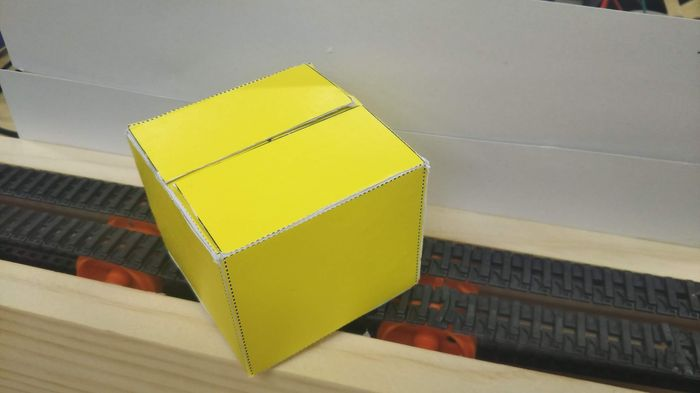box4: (123, 60, 430, 378)
